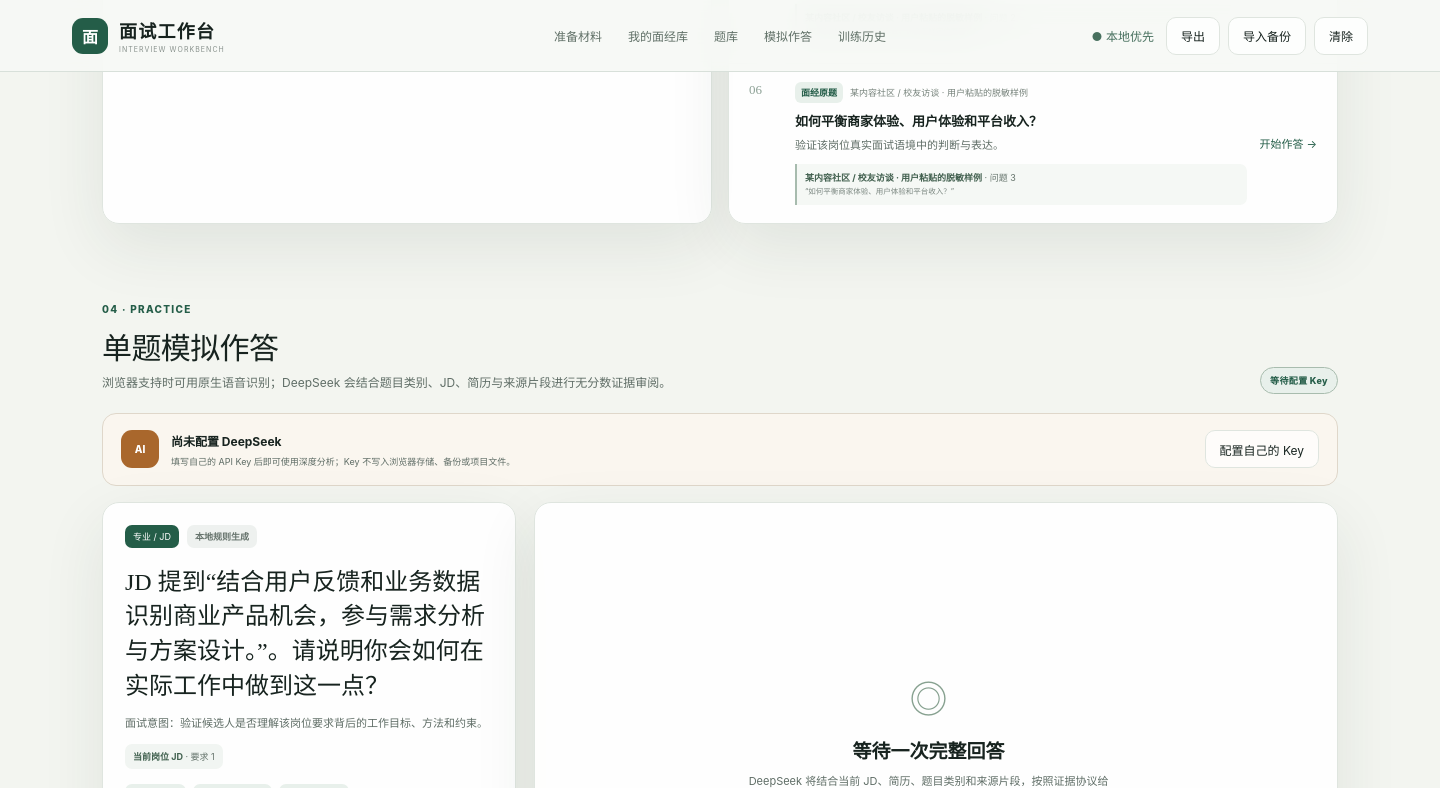
面试工作台页面核心流程 › 通过页面配置本次 DeepSeek Key 且不会回显或写入浏览器存储
(page scrolled)
Expected: the text "尚未配置 DeepSeek" is shown, [171,434,282,449]
Click the button "配置自己的 Key".
click(1262, 449)  # box [1204,430,1319,468]
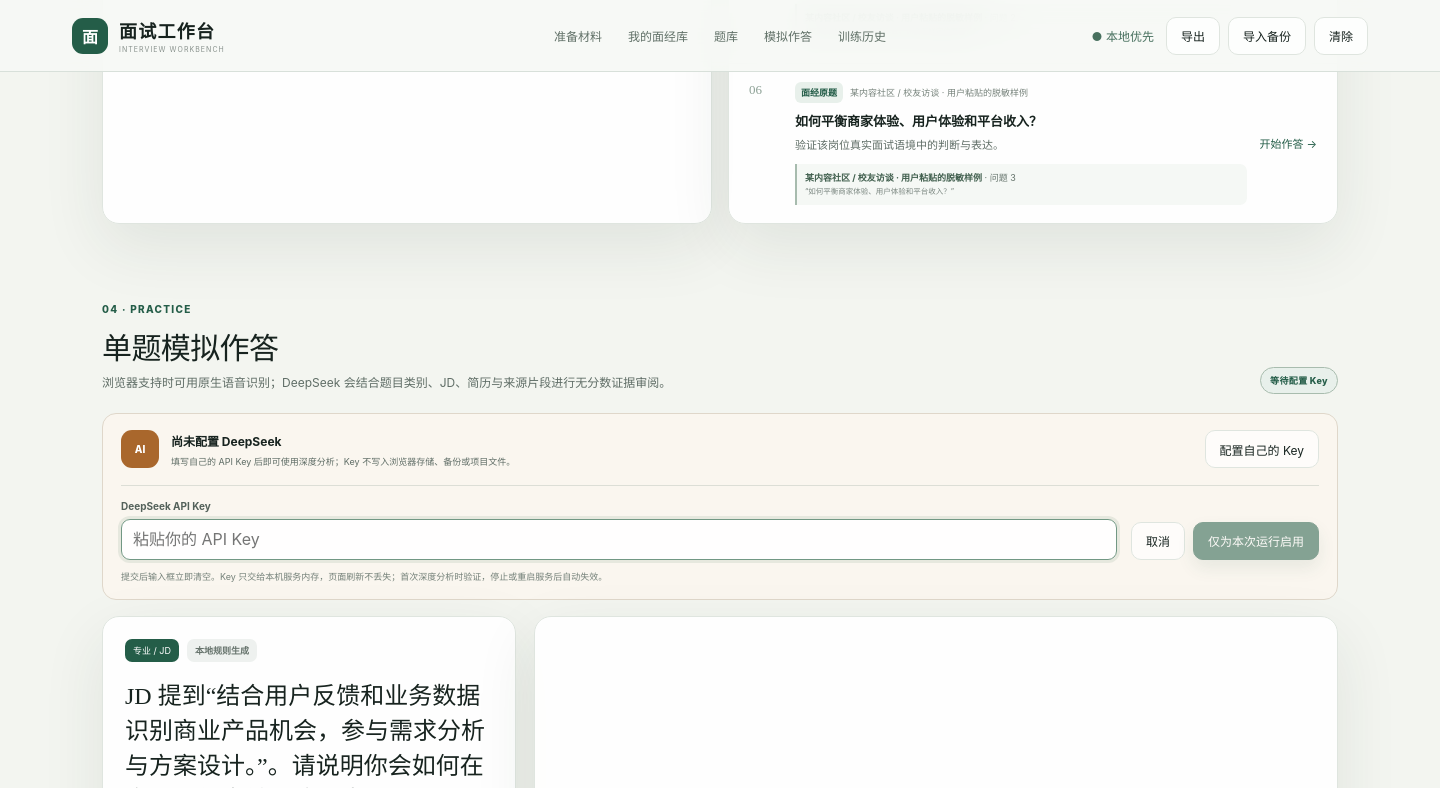
Type "test-local-release-key" into the password field labelled "DeepSeek API Key".
click(619, 539); type("test-local-release-key")  # box [121,518,1117,560]
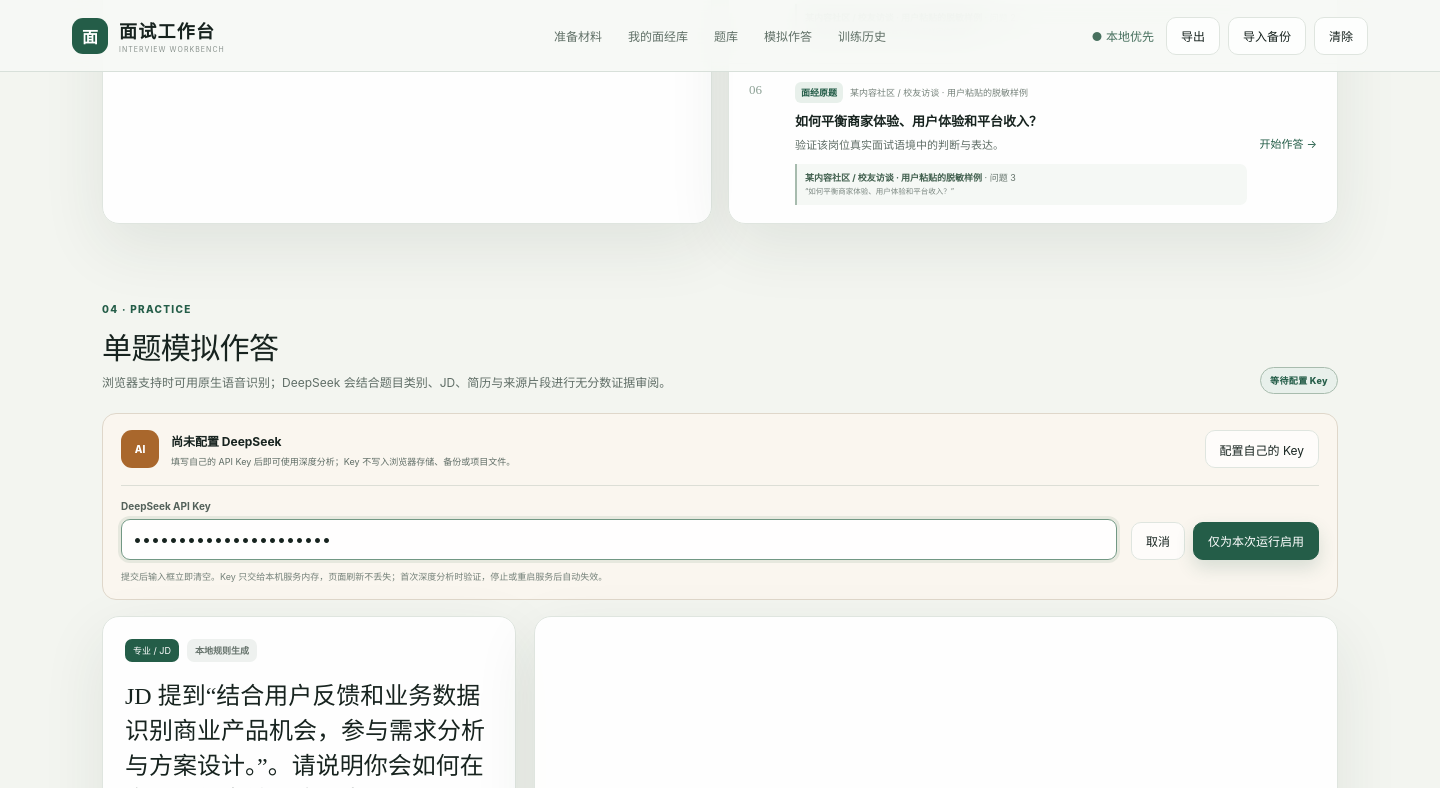
Click the button "仅为本次运行启用".
click(1256, 540)  # box [1193,522,1319,560]
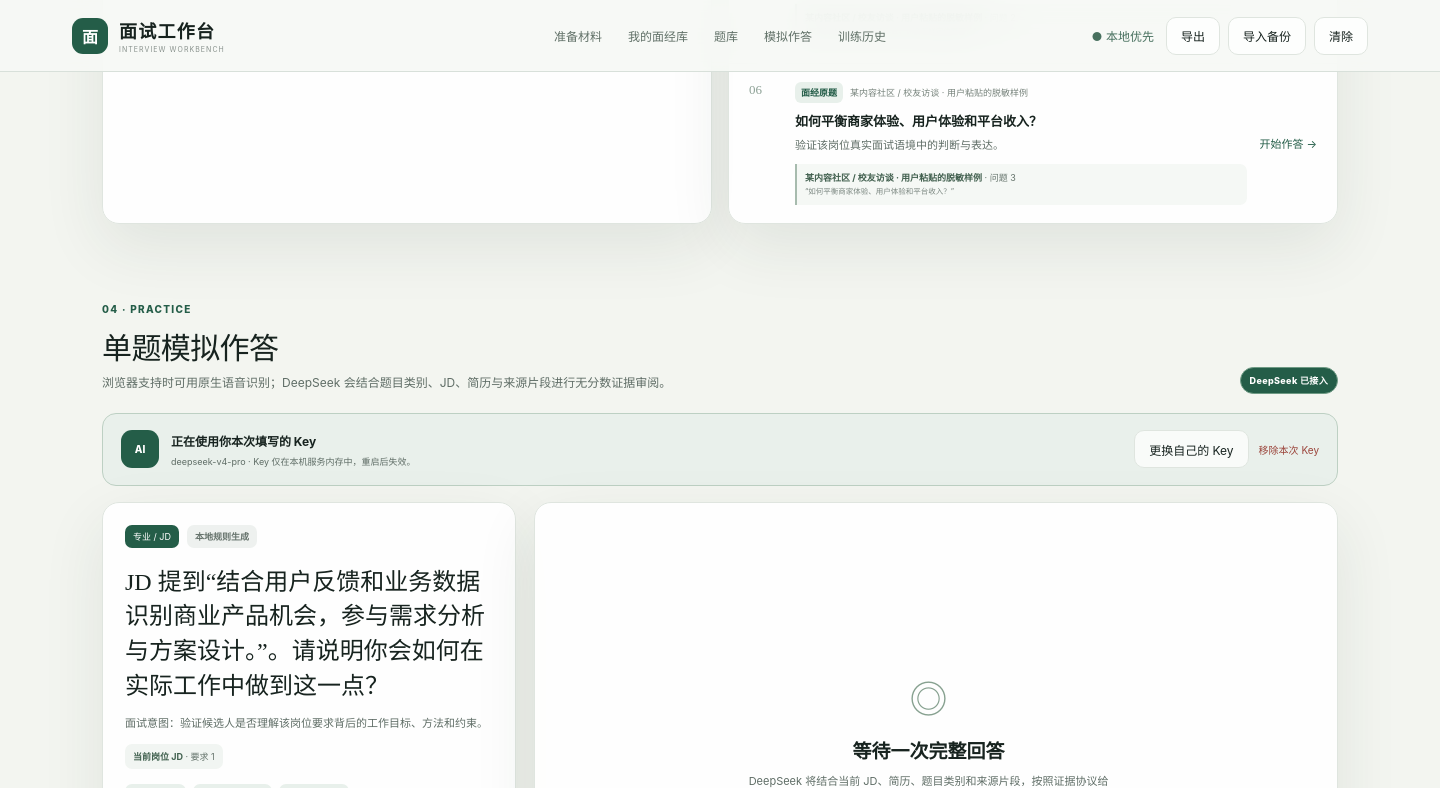
Now the text "正在使用你本次填写的 Key" is shown, box [171,434,316,449]
